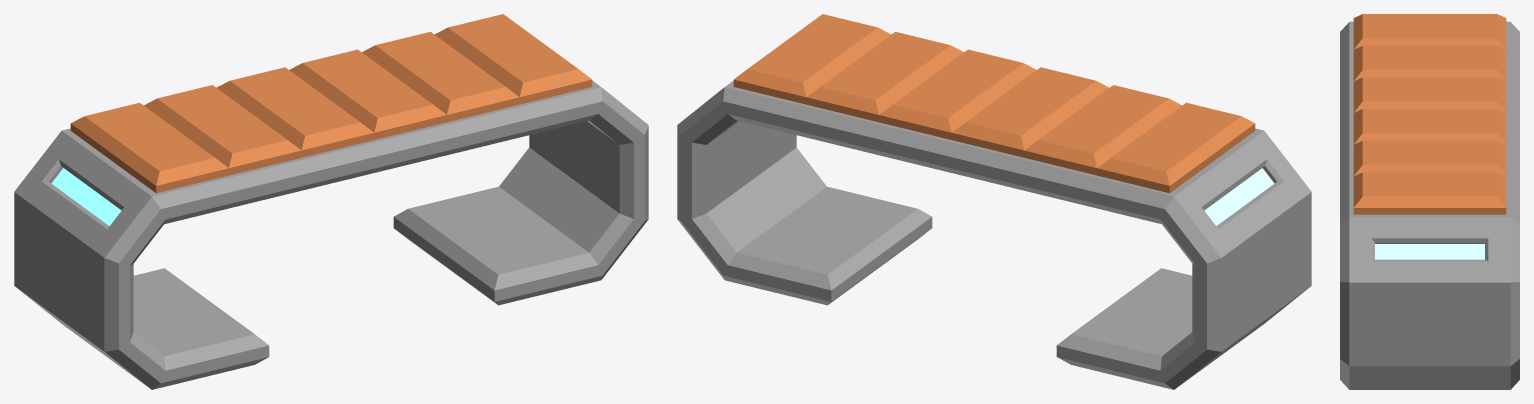
Rendered from SM_Bench.fbx.
The picture shows the model from 3 angles, left to right: view 1: azimuth 30°, elevation 25°; view 2: azimuth 150°, elevation 25°; view 3: azimuth 270°, elevation 25°; orthographic projection. The views are drawn at different scales.
Visible parts, largest first — view 1: SM_Bench; view 2: SM_Bench; view 3: SM_Bench.
Part boxes in pixels (x1,y1,x2,y2): SM_Bench: [14, 14, 648, 389]; SM_Bench: [677, 14, 1311, 389]; SM_Bench: [1340, 14, 1519, 389].
Size of the model in its own units: 151 by 55.64 by 48.55.
